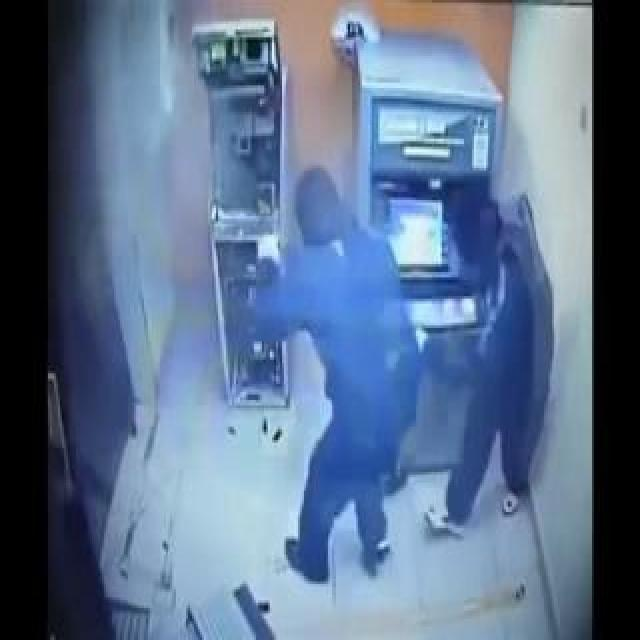thief: (282, 142, 498, 353)
